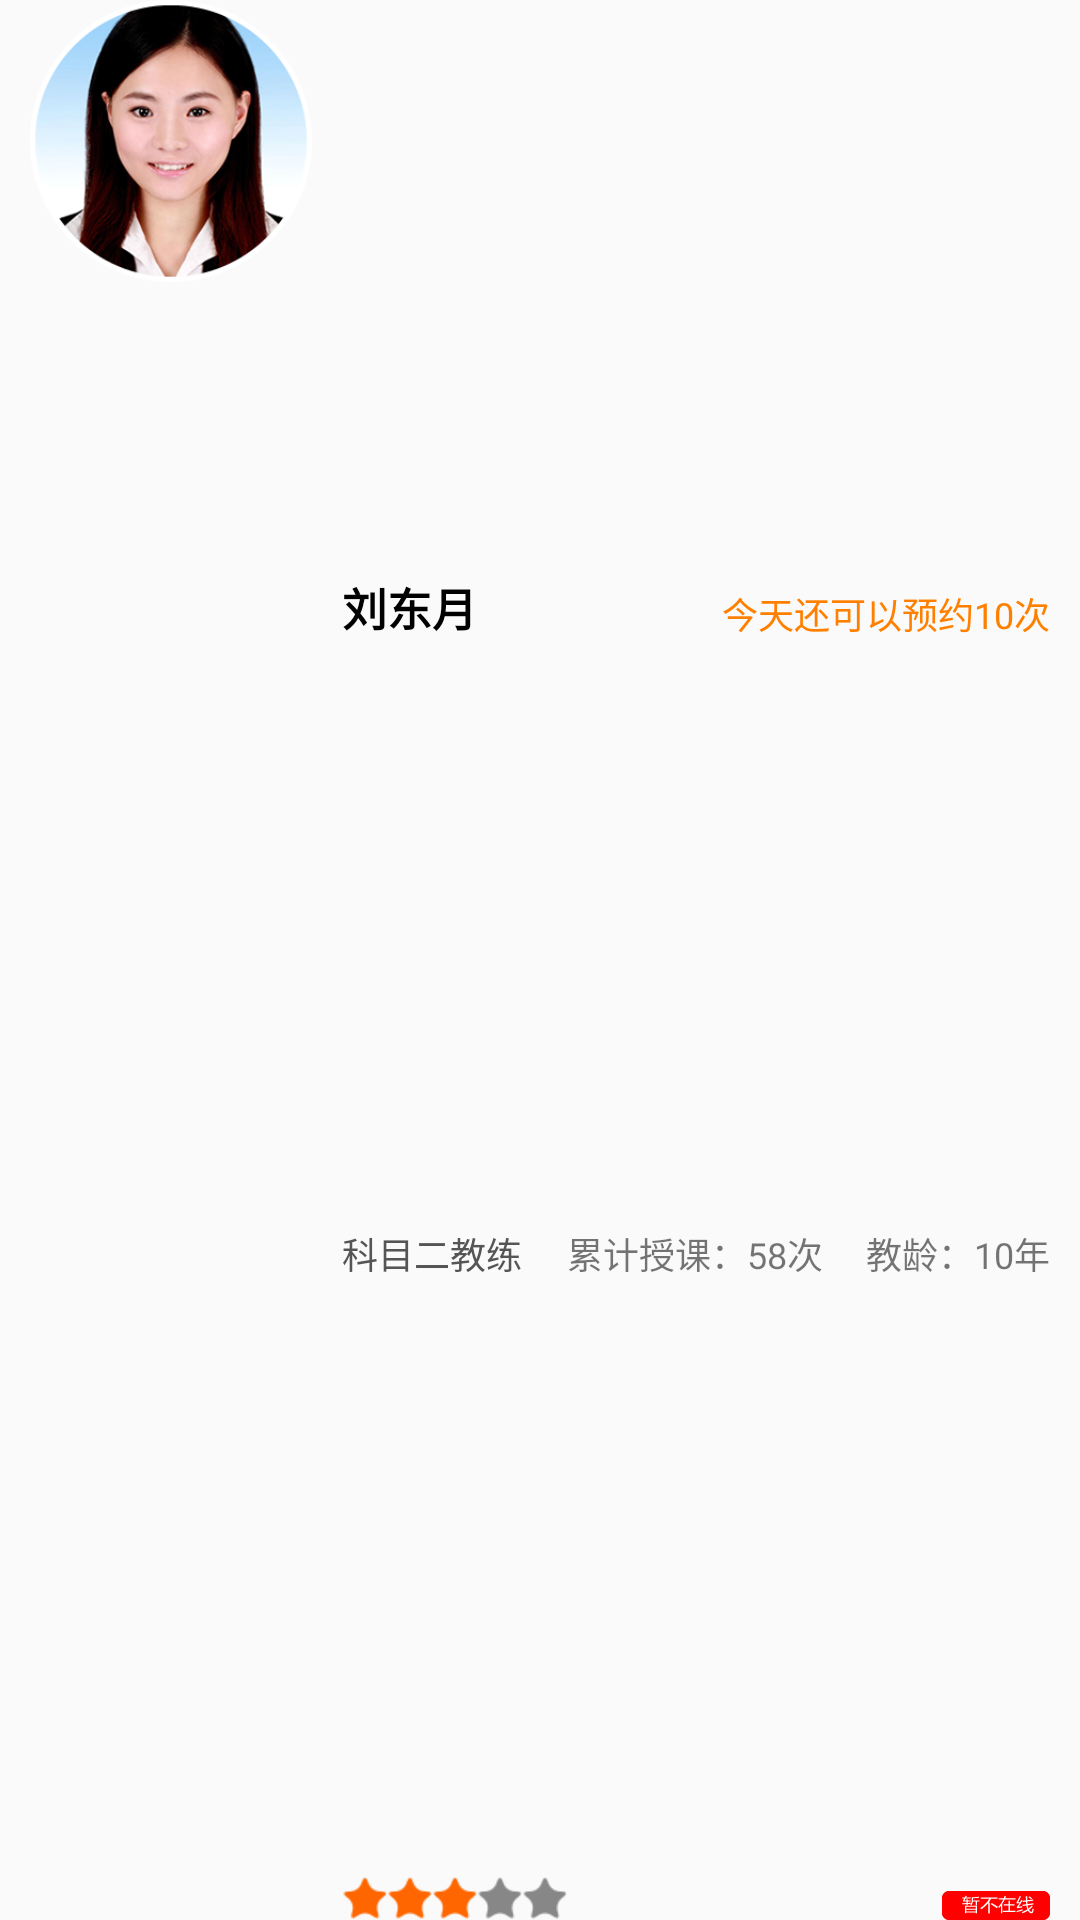

Named icons in this screenshot (1080px x 1920px) and their bounding boxes, (x1, y1, x2, y2):
rating show: (343, 1877, 387, 1919), (388, 1877, 432, 1919), (433, 1877, 477, 1919)
